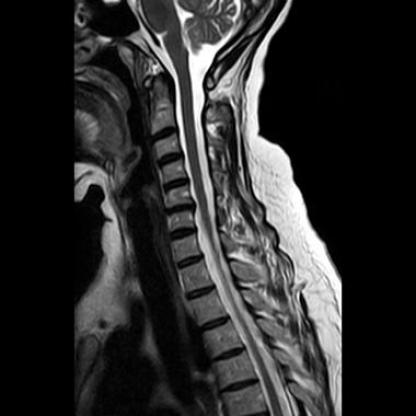Annular Disc Relaxationrotation: (162, 177, 190, 194)
Disc Bulgerotation: (164, 199, 196, 217)
Osteophytesrotation: (163, 199, 196, 218)
